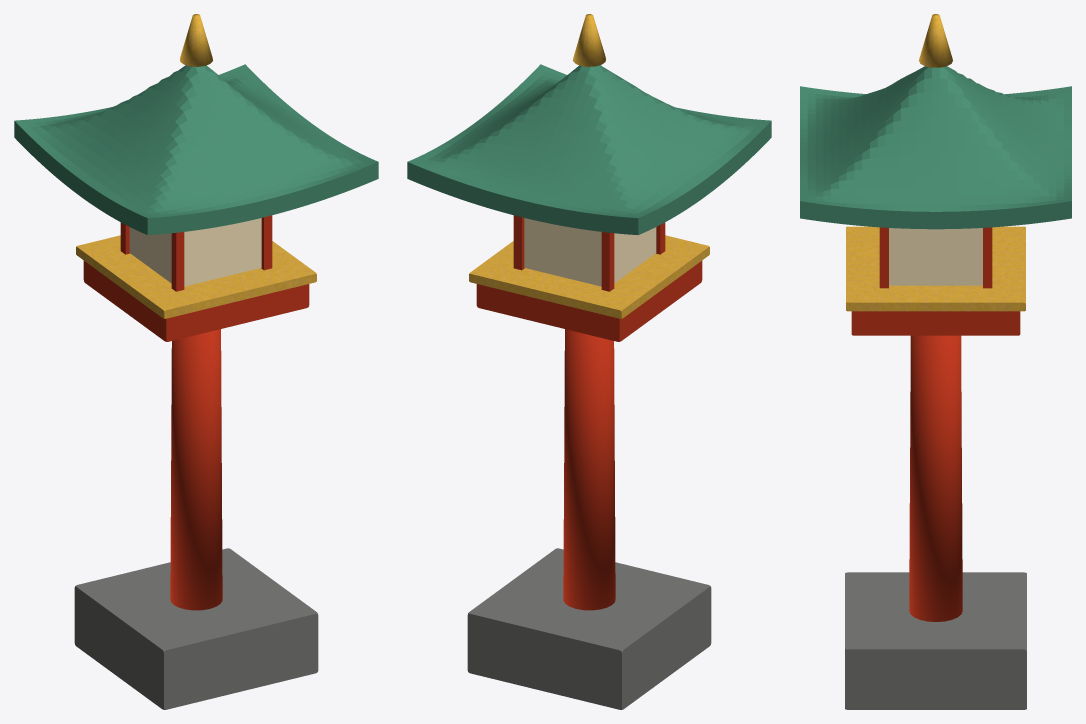
The model's file is Asset_03_Vermilion_Toro_Lantern.fbx.
3 renders of one model, left to right at view 1: azimuth 30°, elevation 25°; view 2: azimuth 150°, elevation 25°; view 3: azimuth 270°, elevation 25°, orthographic.
Visible parts, largest first — view 1: Z01_Lantern_North_CopperRoof, Z01_Lantern_North_StonePlinth, Z01_Lantern_North_Post, Z01_Lantern_North_Platform_Gold, Z01_Lantern_North_LightChamber, Z01_Lantern_North_Platform, Z01_Lantern_North_Finial_Giboshi, Z01_Lantern_North_Frame_-0.27_-0.27, Z01_Lantern_North_Frame_0.27_-0.27; view 2: Z01_Lantern_North_CopperRoof, Z01_Lantern_North_StonePlinth, Z01_Lantern_North_Post, Z01_Lantern_North_Platform_Gold, Z01_Lantern_North_LightChamber, Z01_Lantern_North_Platform, Z01_Lantern_North_Finial_Giboshi, Z01_Lantern_North_Frame_-0.27_0.27, Z01_Lantern_North_Frame_0.27_0.27; view 3: Z01_Lantern_North_CopperRoof, Z01_Lantern_North_StonePlinth, Z01_Lantern_North_Post, Z01_Lantern_North_Platform_Gold, Z01_Lantern_North_LightChamber, Z01_Lantern_North_Platform, Z01_Lantern_North_Finial_Giboshi, Z01_Lantern_North_Frame_0.27_-0.27, Z01_Lantern_North_Frame_0.27_0.27.
Boxes of the visible parts, left/top/right/bottom form: Z01_Lantern_North_CopperRoof: left=14, top=64, right=378, bottom=234; Z01_Lantern_North_StonePlinth: left=74, top=548, right=318, bottom=709; Z01_Lantern_North_Post: left=170, top=329, right=222, bottom=610; Z01_Lantern_North_Platform_Gold: left=76, top=235, right=316, bottom=318; Z01_Lantern_North_LightChamber: left=129, top=218, right=261, bottom=286; Z01_Lantern_North_Platform: left=83, top=260, right=309, bottom=341; Z01_Lantern_North_Finial_Giboshi: left=180, top=14, right=212, bottom=66; Z01_Lantern_North_Frame_-0.27_-0.27: left=171, top=232, right=184, bottom=291; Z01_Lantern_North_Frame_0.27_-0.27: left=261, top=215, right=272, bottom=270; Z01_Lantern_North_CopperRoof: left=407, top=64, right=771, bottom=234; Z01_Lantern_North_StonePlinth: left=467, top=548, right=711, bottom=709; Z01_Lantern_North_Post: left=563, top=329, right=615, bottom=610; Z01_Lantern_North_Platform_Gold: left=469, top=235, right=709, bottom=318; Z01_Lantern_North_LightChamber: left=524, top=218, right=656, bottom=286; Z01_Lantern_North_Platform: left=476, top=260, right=702, bottom=341; Z01_Lantern_North_Finial_Giboshi: left=573, top=14, right=605, bottom=66; Z01_Lantern_North_Frame_-0.27_0.27: left=601, top=232, right=614, bottom=291; Z01_Lantern_North_Frame_0.27_0.27: left=513, top=215, right=524, bottom=270; Z01_Lantern_North_CopperRoof: left=800, top=66, right=1071, bottom=229; Z01_Lantern_North_StonePlinth: left=845, top=572, right=1026, bottom=709; Z01_Lantern_North_Post: left=909, top=335, right=962, bottom=621; Z01_Lantern_North_Platform_Gold: left=846, top=226, right=1025, bottom=311; Z01_Lantern_North_LightChamber: left=889, top=228, right=982, bottom=285; Z01_Lantern_North_Platform: left=851, top=311, right=1020, bottom=335; Z01_Lantern_North_Finial_Giboshi: left=919, top=14, right=952, bottom=67; Z01_Lantern_North_Frame_0.27_-0.27: left=879, top=227, right=888, bottom=288; Z01_Lantern_North_Frame_0.27_0.27: left=983, top=227, right=992, bottom=288.
Size of the model in its own units: 142 by 378 by 142.
5 materials, 1 textured.
